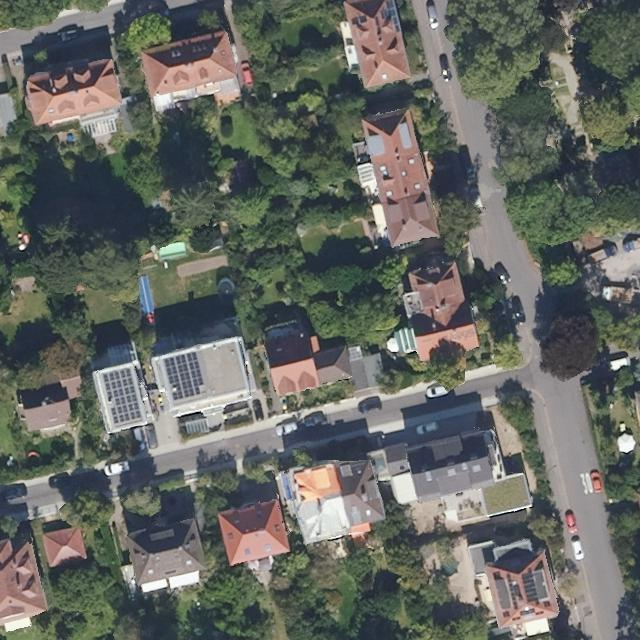PV: (102, 366, 144, 426), (162, 350, 205, 403), (386, 0, 401, 34), (351, 15, 368, 26)
